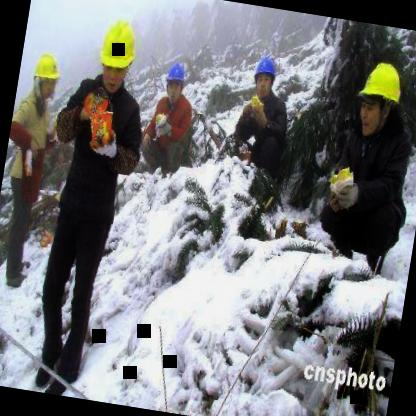helmet: (348, 52, 410, 144), (90, 8, 144, 99), (26, 42, 66, 108), (246, 49, 282, 102), (160, 53, 192, 104)
